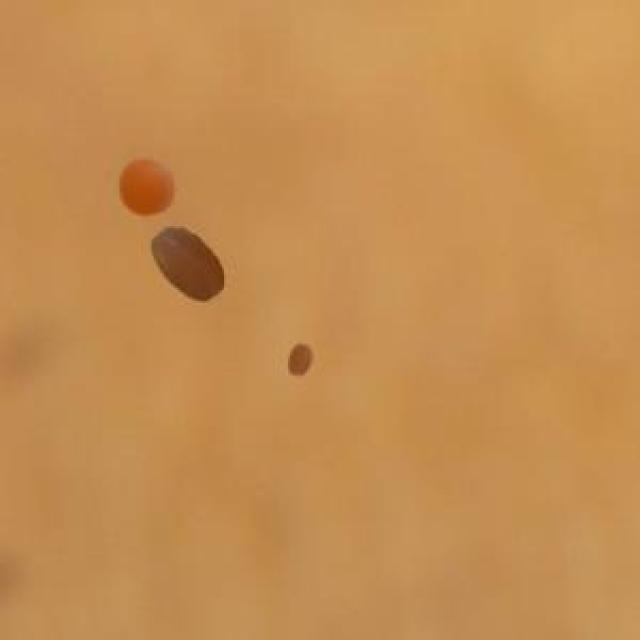Bactidol: (140, 224, 240, 309), (97, 146, 185, 220), (278, 332, 324, 390)
